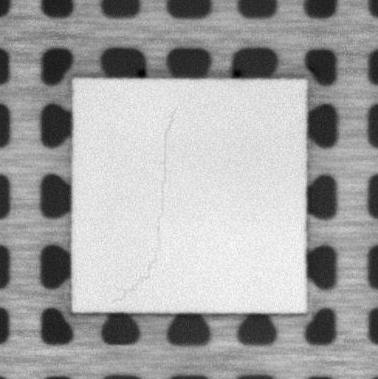DIE_CRACK: (110, 106, 179, 304)
